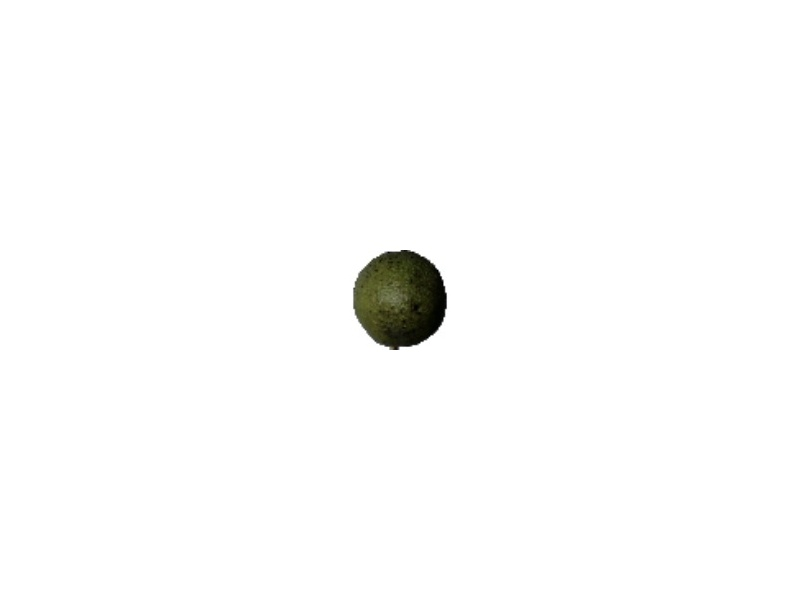abacate: (350, 250, 446, 344)
